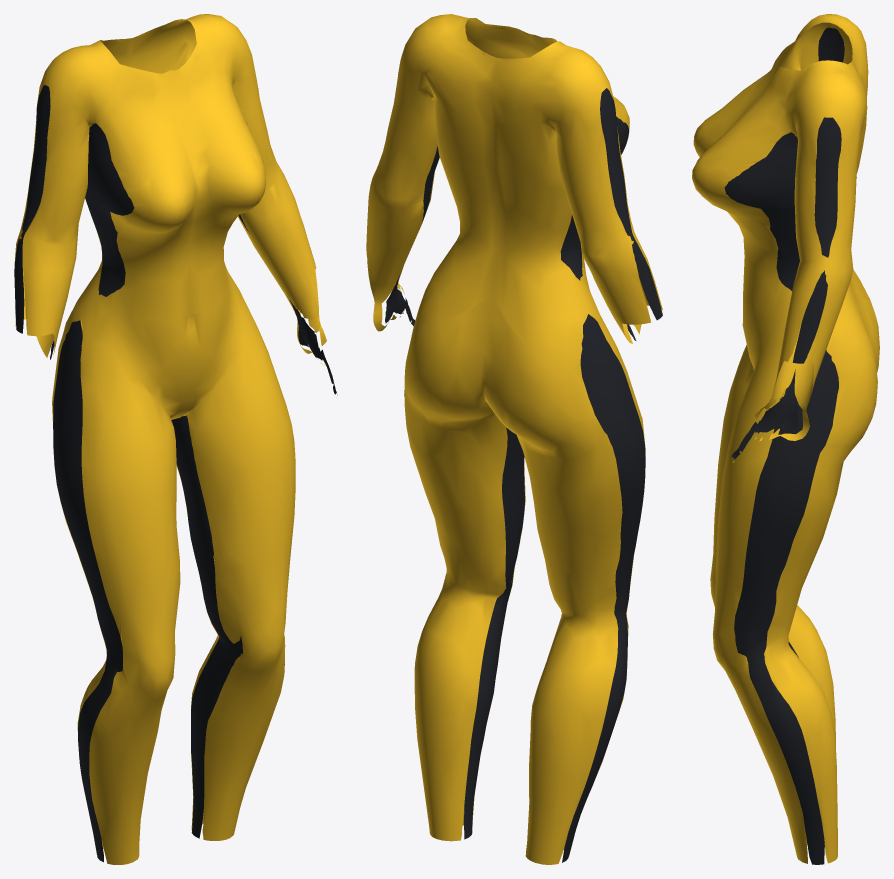
File: action-yellow.glb
The picture shows the model from 3 angles, left to right: view 1: azimuth 30°, elevation 25°; view 2: azimuth 150°, elevation 25°; view 3: azimuth 270°, elevation 25°; orthographic projection. The views are drawn at different scales.
Visible parts, largest first — view 1: Foundation.Action.ContinuousSuit, Foundation.Action.OuterSeamStripes; view 2: Foundation.Action.ContinuousSuit, Foundation.Action.OuterSeamStripes; view 3: Foundation.Action.ContinuousSuit, Foundation.Action.OuterSeamStripes.
Boxes of the visible parts, x1=… form: Foundation.Action.ContinuousSuit: x1=14, y1=14, x2=336, y2=864; Foundation.Action.OuterSeamStripes: x1=14, y1=85, x2=337, y2=862; Foundation.Action.ContinuousSuit: x1=366, y1=14, x2=662, y2=864; Foundation.Action.OuterSeamStripes: x1=385, y1=70, x2=662, y2=862; Foundation.Action.ContinuousSuit: x1=692, y1=14, x2=879, y2=863; Foundation.Action.OuterSeamStripes: x1=724, y1=27, x2=844, y2=864.
Bounding box in the file's own units: 0.4551 × 1.21 × 0.2631.
